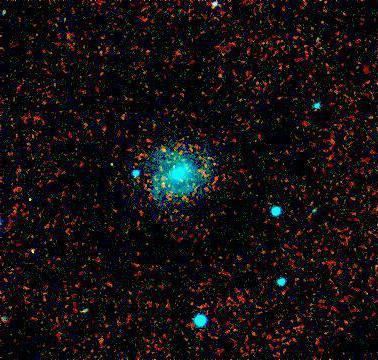star: (147, 138, 177, 168)
